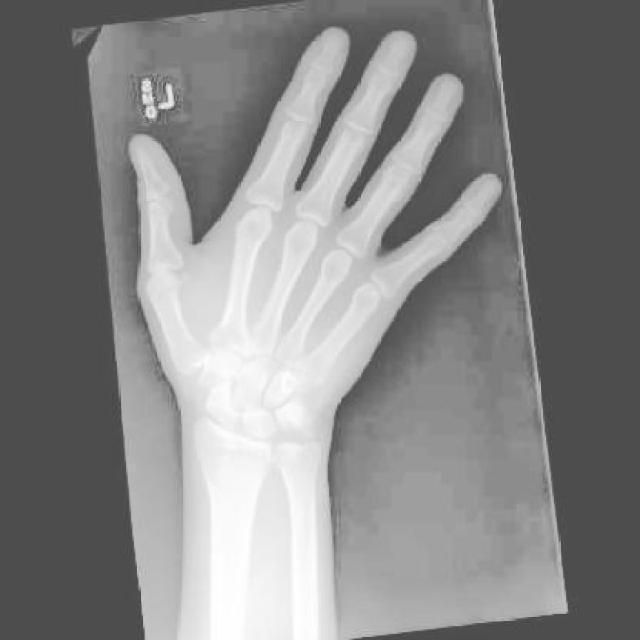Fracture: (206, 388, 242, 413)
